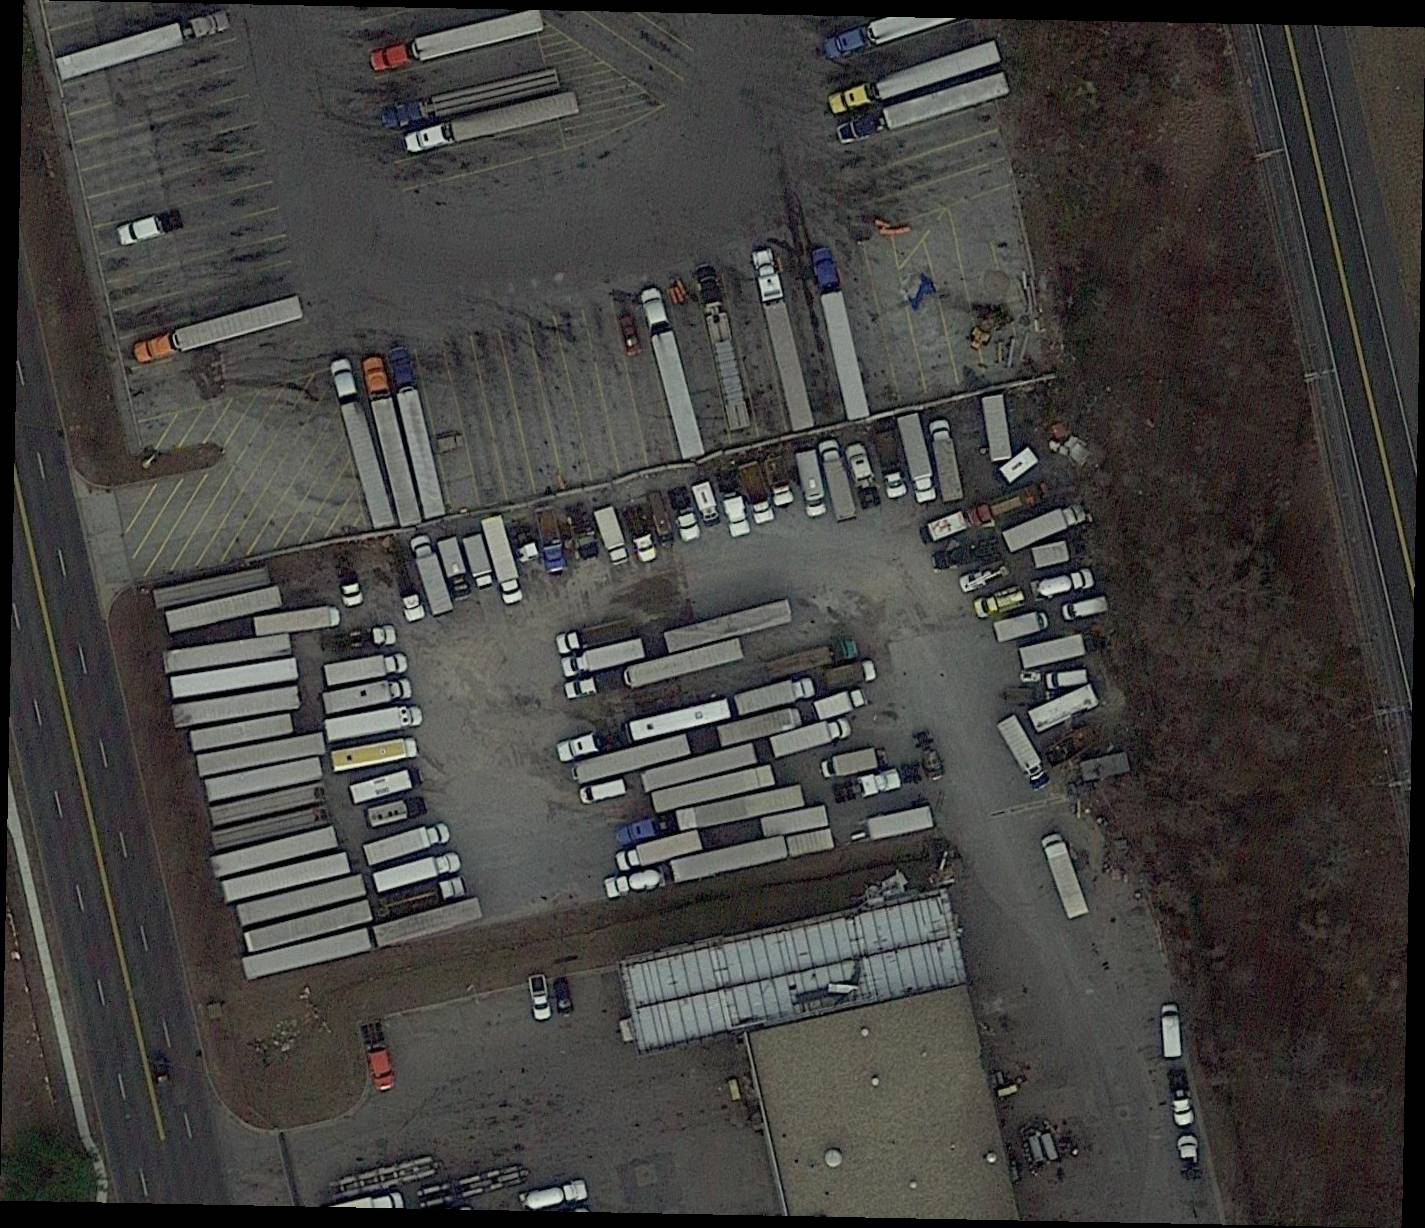large vehicle: (830, 39, 1002, 118), (839, 72, 1011, 147), (56, 10, 231, 82), (133, 295, 304, 366), (404, 90, 580, 158), (751, 247, 815, 434), (382, 69, 561, 133), (330, 358, 395, 532), (641, 289, 706, 461), (387, 348, 447, 521), (812, 247, 871, 422), (364, 356, 423, 529), (693, 264, 752, 434), (623, 639, 745, 690), (995, 712, 1057, 796), (625, 698, 731, 744), (1003, 502, 1087, 555), (1041, 832, 1091, 921), (765, 636, 859, 681), (481, 514, 525, 606), (364, 822, 451, 868), (897, 415, 938, 506), (374, 852, 462, 895), (616, 830, 703, 873), (325, 704, 423, 742), (769, 715, 853, 759), (410, 537, 454, 618), (324, 678, 412, 716), (719, 708, 802, 748), (562, 638, 645, 678), (819, 439, 858, 524), (734, 676, 815, 716), (331, 737, 419, 773), (324, 653, 407, 689), (349, 767, 420, 807), (929, 422, 965, 503), (557, 618, 633, 655), (254, 607, 342, 636), (875, 427, 909, 499), (737, 462, 776, 525), (536, 506, 570, 575), (594, 506, 631, 567), (437, 537, 473, 602), (796, 450, 829, 518), (367, 796, 427, 829), (668, 486, 702, 543), (992, 610, 1048, 644), (463, 535, 494, 592), (822, 748, 879, 779), (824, 659, 876, 692), (814, 689, 865, 721)
small vehicle: (1030, 564, 1097, 602), (113, 211, 171, 249), (971, 586, 1029, 622), (763, 455, 799, 509), (366, 1046, 404, 1095), (688, 481, 723, 529), (577, 777, 630, 807), (720, 490, 751, 541), (1058, 593, 1112, 621), (617, 312, 646, 360), (526, 972, 554, 1021), (148, 1055, 174, 1100), (1047, 667, 1092, 690), (553, 975, 576, 1016)
